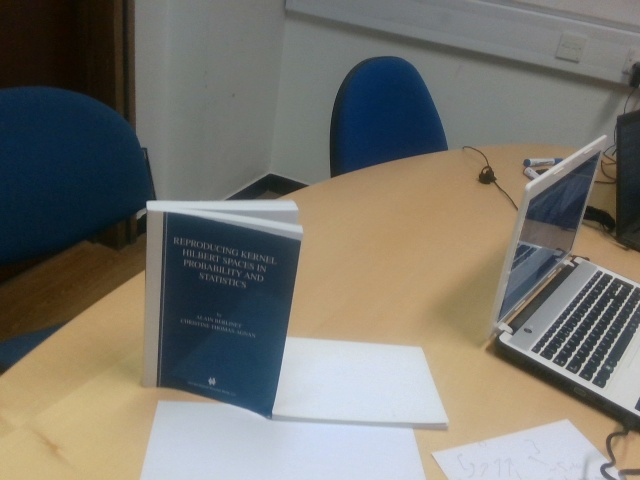book: (143, 200, 303, 419)
